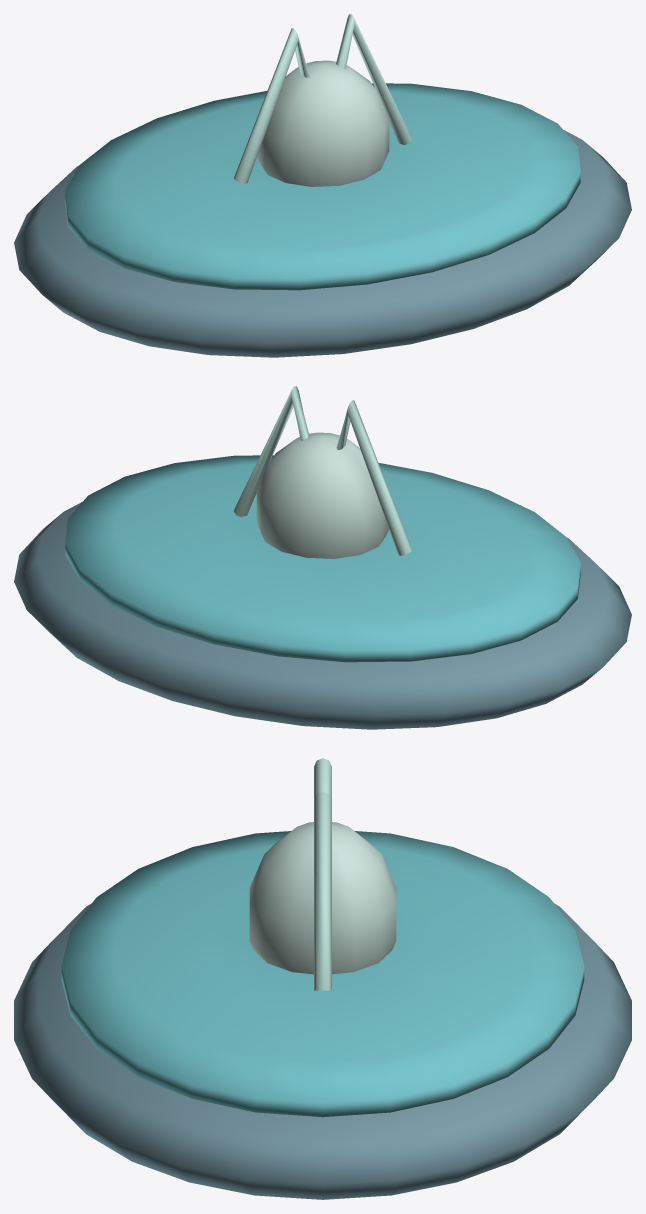
The model's file is fountain_1.glb.
3 renders of one model, top to bottom at view 1: azimuth 30°, elevation 25°; view 2: azimuth 150°, elevation 25°; view 3: azimuth 270°, elevation 25°, orthographic. The views are drawn at different scales.
Visible parts, largest first — view 1: Fountain; view 2: Fountain; view 3: Fountain.
Boxes of the visible parts, x1,y1,x2,y2 form: Fountain: [14, 14, 631, 357]; Fountain: [14, 386, 631, 729]; Fountain: [14, 758, 631, 1199].
Size of the model in its own units: 2.52 by 1.14 by 2.01.
